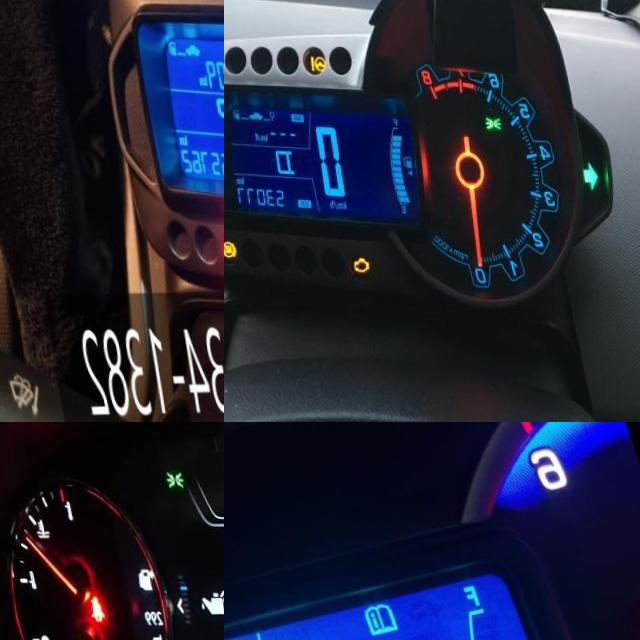SideLamp: (161, 470, 180, 487), (477, 113, 496, 129)
